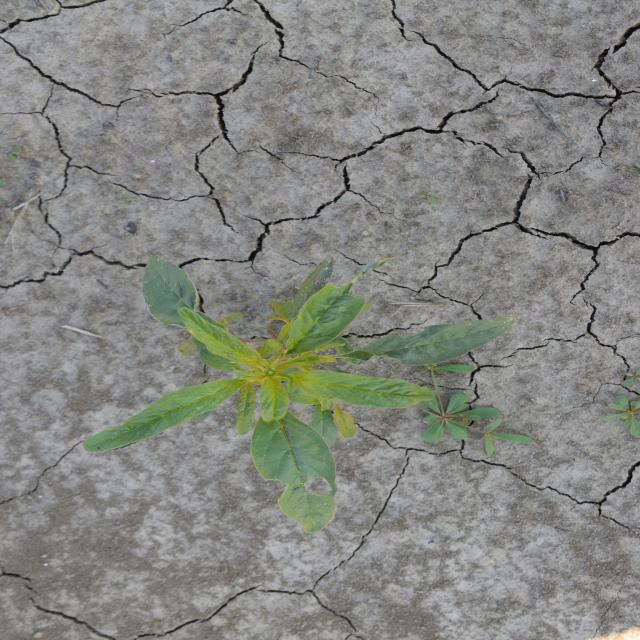Carpetweed: (415, 362, 537, 458), (598, 367, 638, 442)
Waterhemp: (80, 255, 519, 535)
